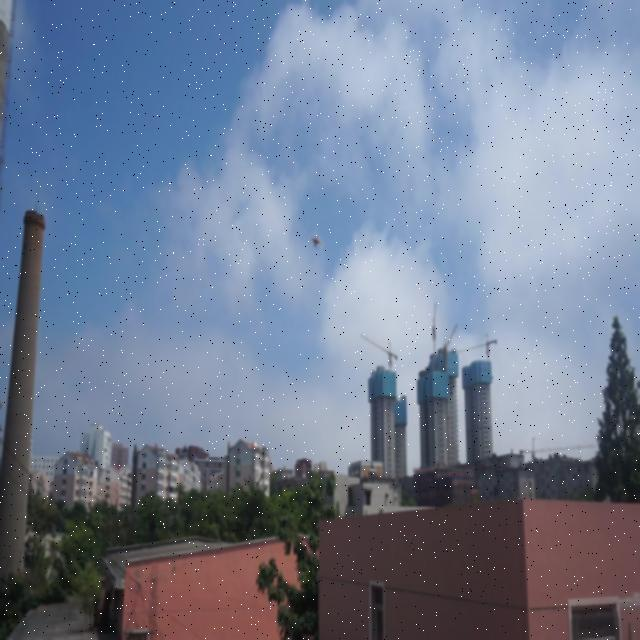UAV: (308, 232, 326, 250)
